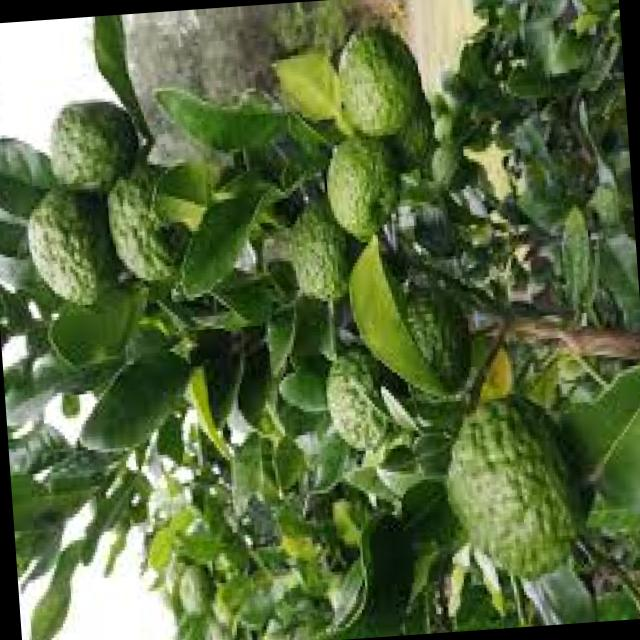Chuc: (436, 392, 587, 588), (23, 186, 117, 311), (330, 22, 424, 144), (102, 164, 190, 288), (44, 98, 142, 196), (321, 133, 402, 247), (320, 345, 390, 455), (284, 200, 352, 306), (175, 562, 213, 618)
